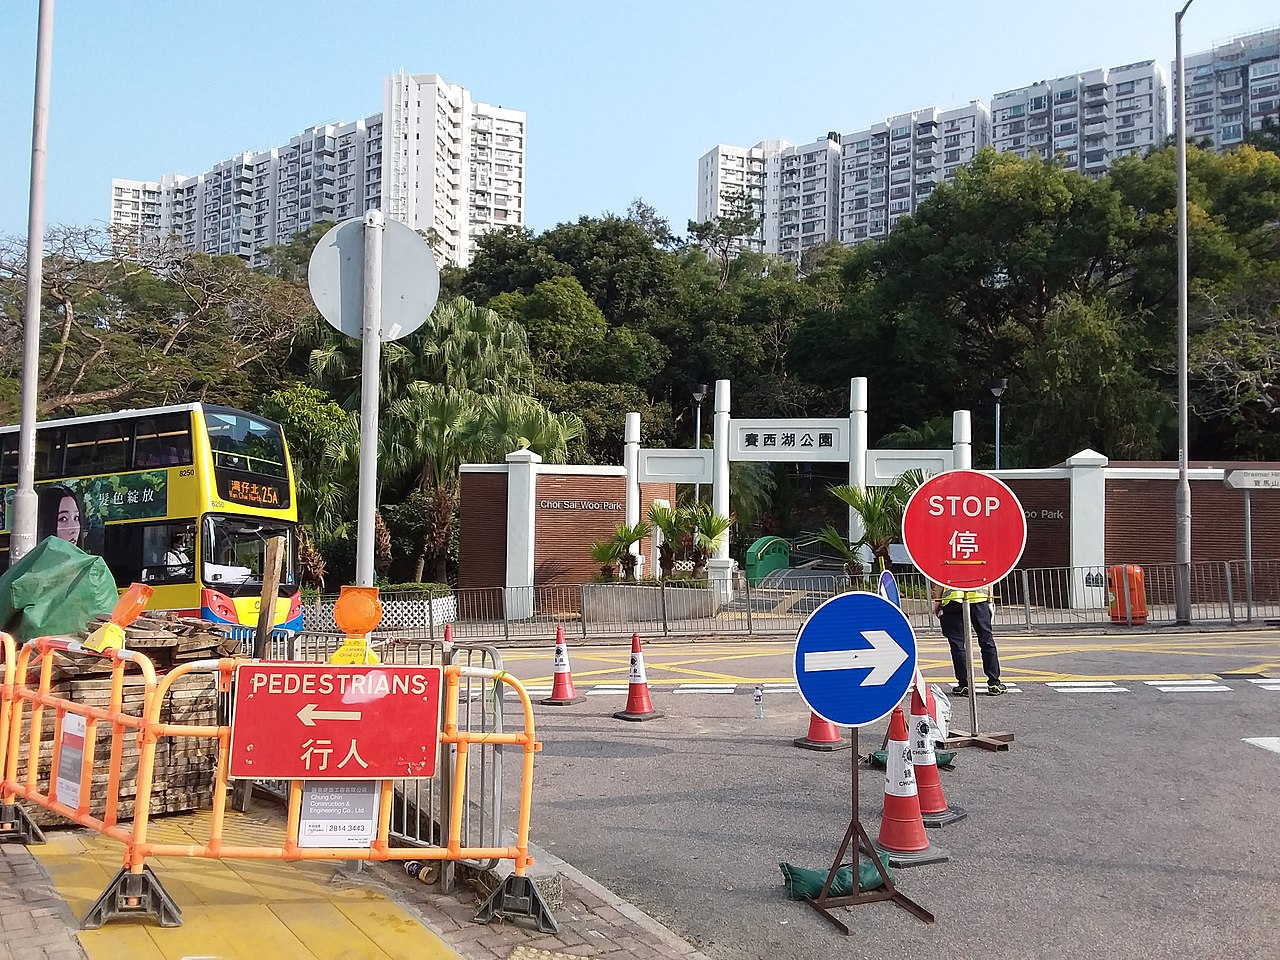Stop: (899, 470, 1027, 595)
Turn Right: (789, 592, 920, 722)
